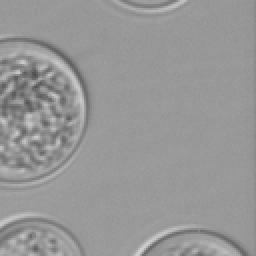picoshell: (0, 36, 86, 188), (0, 212, 82, 254), (132, 224, 246, 254), (106, 0, 186, 12)
